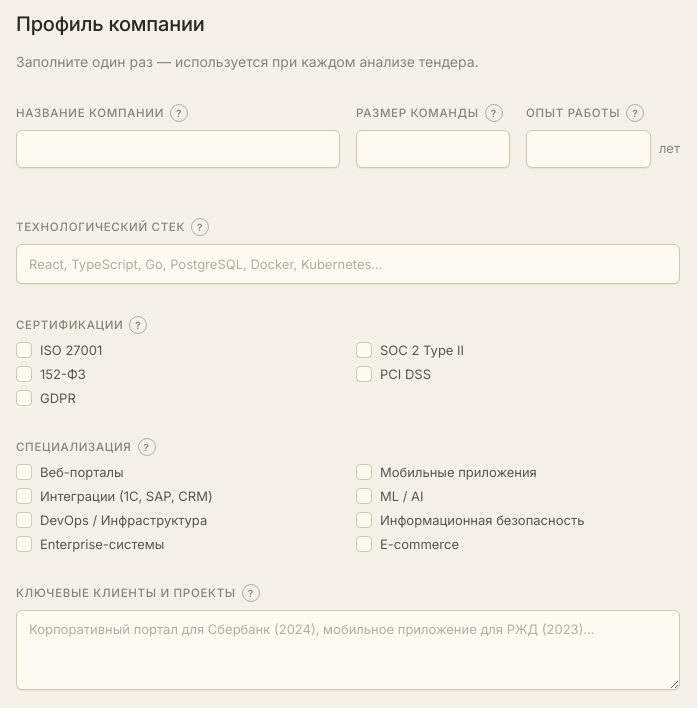
Test case: CompanyProfile (RU) › does not add duplicate tags
In the field with placeholder "React, TypeScript, Go, PostgreSQL, Docker, Kubernetes…": (348, 264) [27, 253, 669, 275], type "Go"
Then press Enter
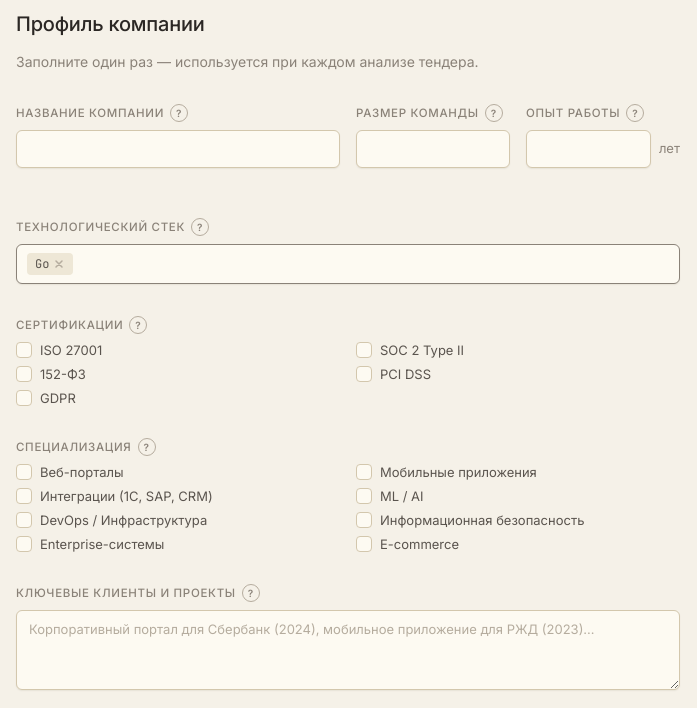
expect the text "Go" is shown once: met, box [27, 253, 73, 275]
